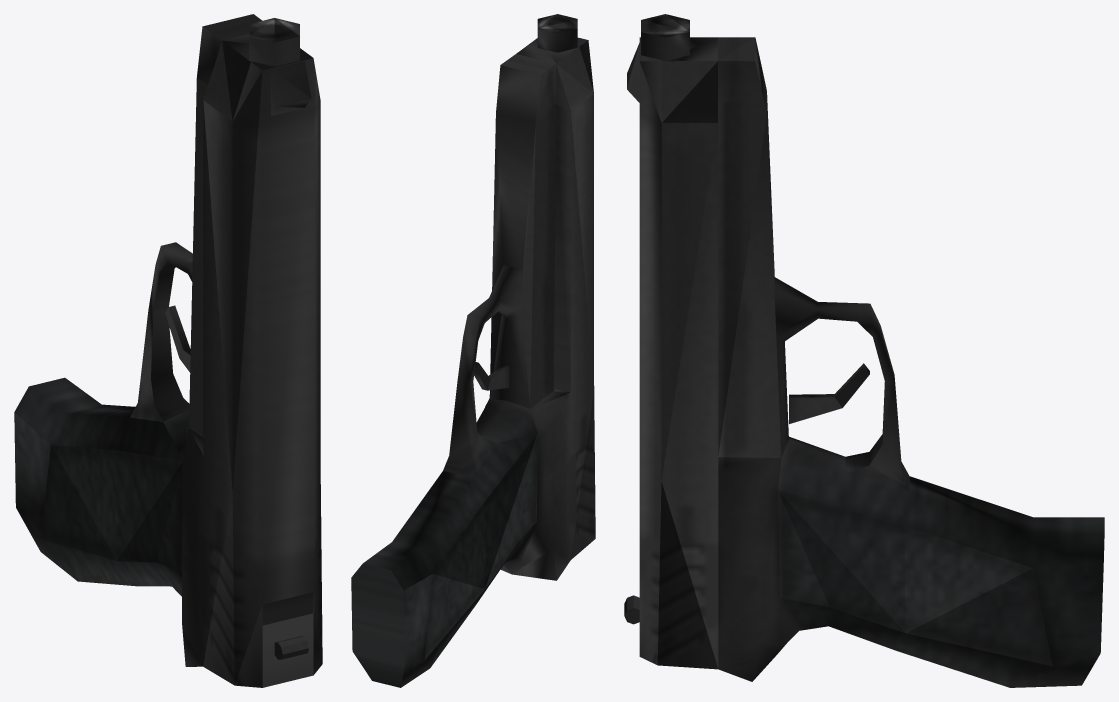
File: Glock17.fbx
3 views of the same model, side by side, from view 1: azimuth 30°, elevation 25°; view 2: azimuth 150°, elevation 25°; view 3: azimuth 270°, elevation 25° (orthographic). The views are drawn at different scales.
Parts seen in each view (by area): view 1: node_64b99d1e_3d19_4fd0_918e_7abd6f7c86e0_mesh0; view 2: node_64b99d1e_3d19_4fd0_918e_7abd6f7c86e0_mesh0; view 3: node_64b99d1e_3d19_4fd0_918e_7abd6f7c86e0_mesh0.
Boxes of the visible parts, x1,y1,x2,y2 form: node_64b99d1e_3d19_4fd0_918e_7abd6f7c86e0_mesh0: [14, 14, 322, 687]; node_64b99d1e_3d19_4fd0_918e_7abd6f7c86e0_mesh0: [351, 14, 595, 687]; node_64b99d1e_3d19_4fd0_918e_7abd6f7c86e0_mesh0: [624, 14, 1104, 687].
Bounding box in the file's own units: 0.0199 × 0.1462 × 0.0974.
